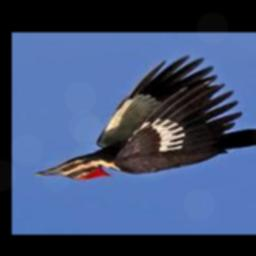Woodpecker: (35, 56, 256, 181)
